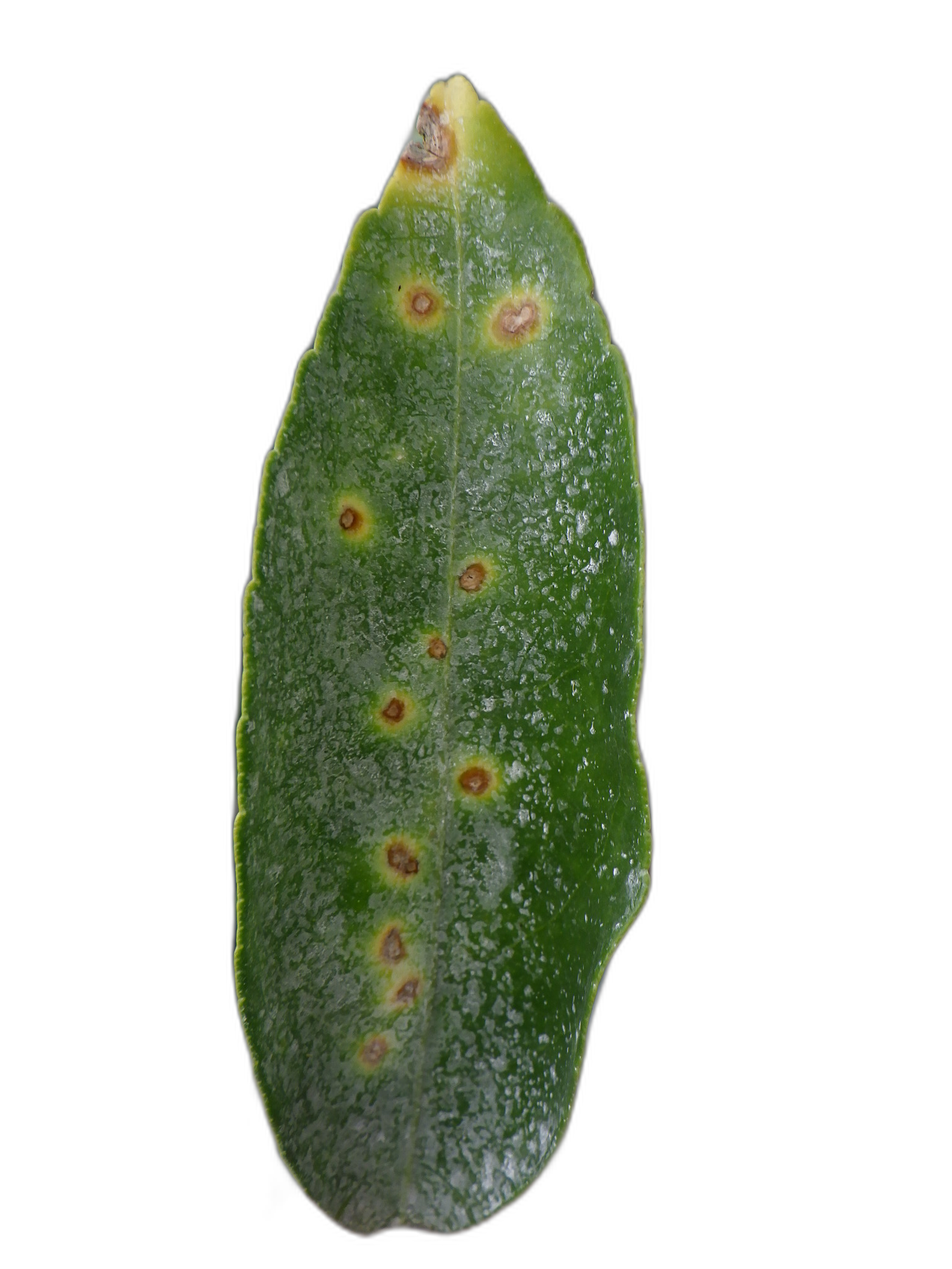Canker: (399, 102, 454, 174), (498, 301, 540, 338), (455, 558, 491, 595), (377, 924, 407, 967), (387, 840, 420, 877), (457, 764, 491, 796), (405, 288, 438, 320), (393, 973, 425, 1003), (377, 695, 407, 726), (338, 504, 363, 535), (361, 1038, 386, 1064), (425, 633, 447, 662)
